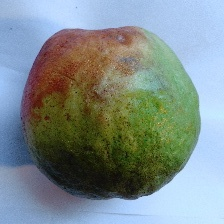guava: (12, 6, 203, 196)
